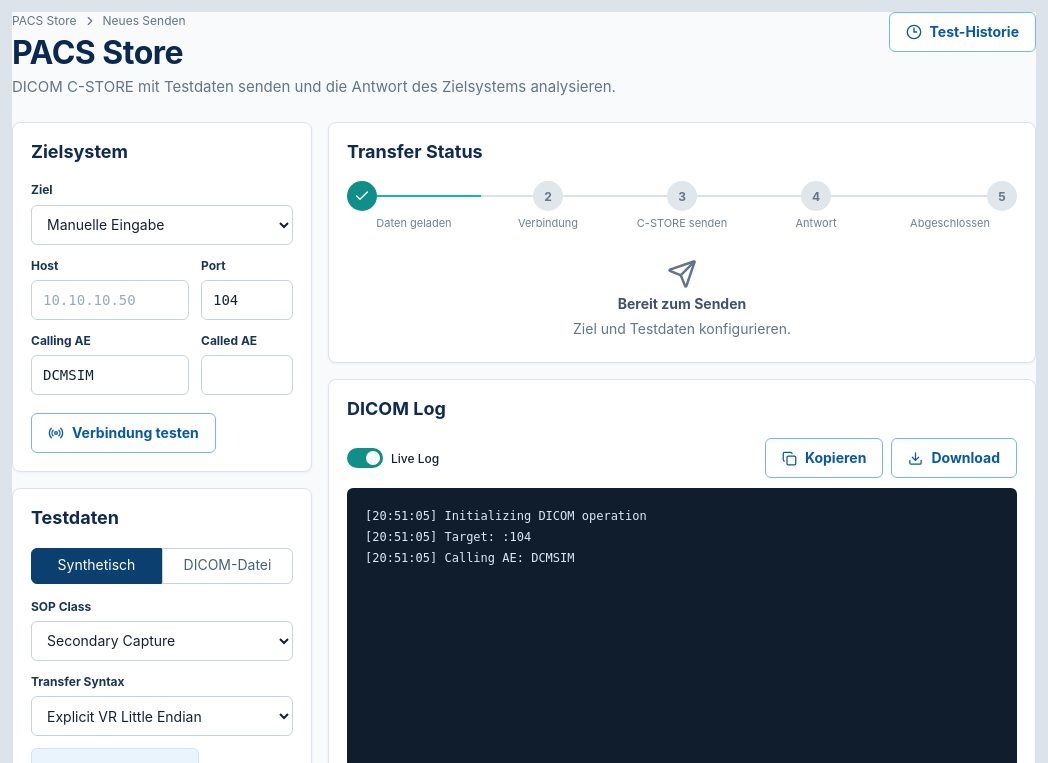
shows C-ECHO separately from C-STORE transfer progress
The image size is (1048, 763).
Type "127.0.0.1" into the field labelled "Host".
click(110, 300); type("127.0.0.1")  # box top-left (31, 280), bottom-right (189, 320)
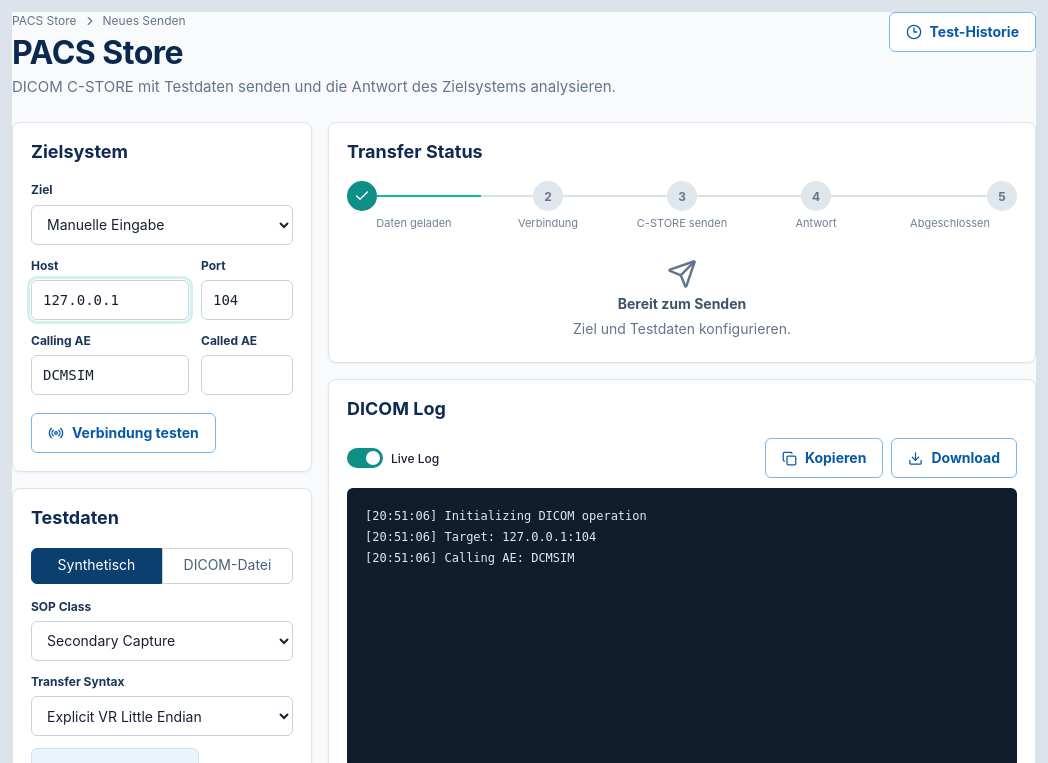
Type "PACS" into the field labelled "Called AE".
click(247, 375); type("PACS")  # box top-left (201, 355), bottom-right (293, 395)
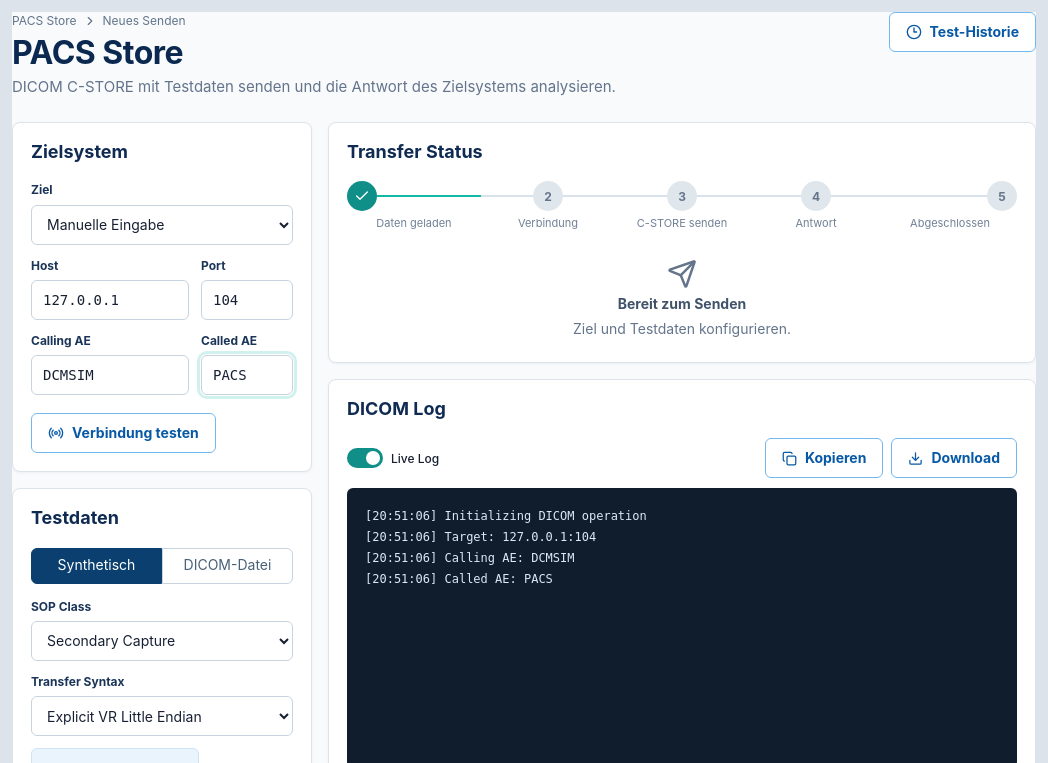
Click the button "Verbindung testen".
click(123, 433)  # box top-left (31, 413), bottom-right (216, 453)
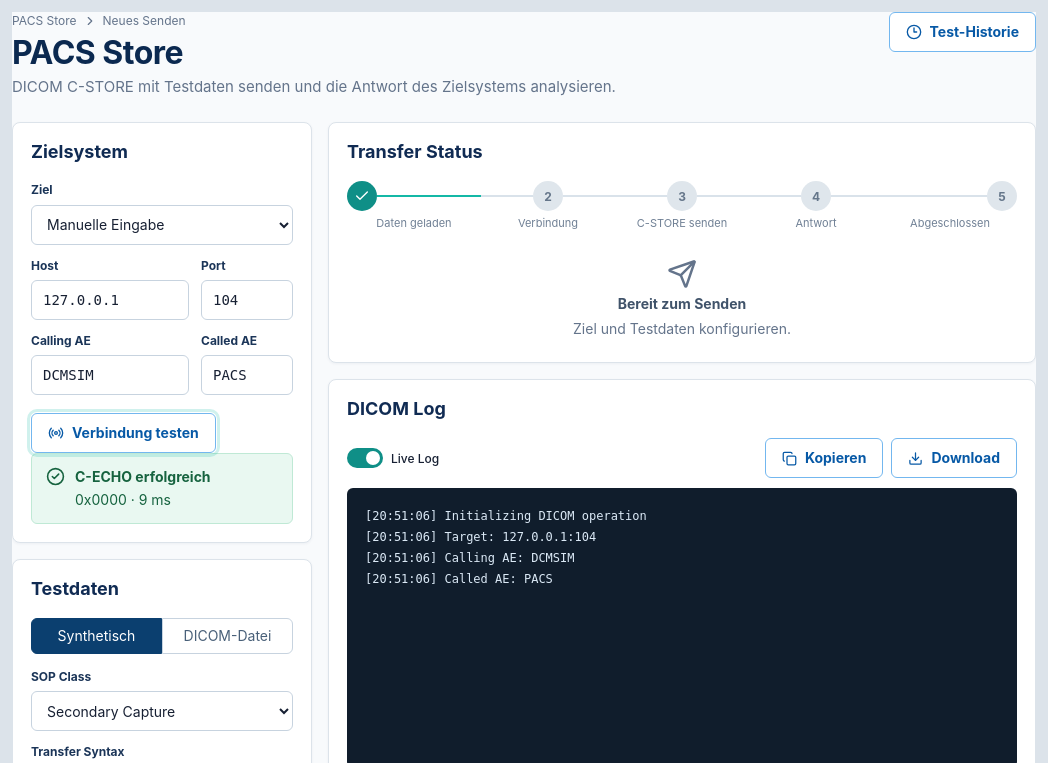
Expected: the text "Bereit zum Senden" is shown, top-left (618, 294), bottom-right (746, 314)
Result: the text "C-ECHO erfolgreich" is shown at top-left (75, 467), bottom-right (211, 488)
